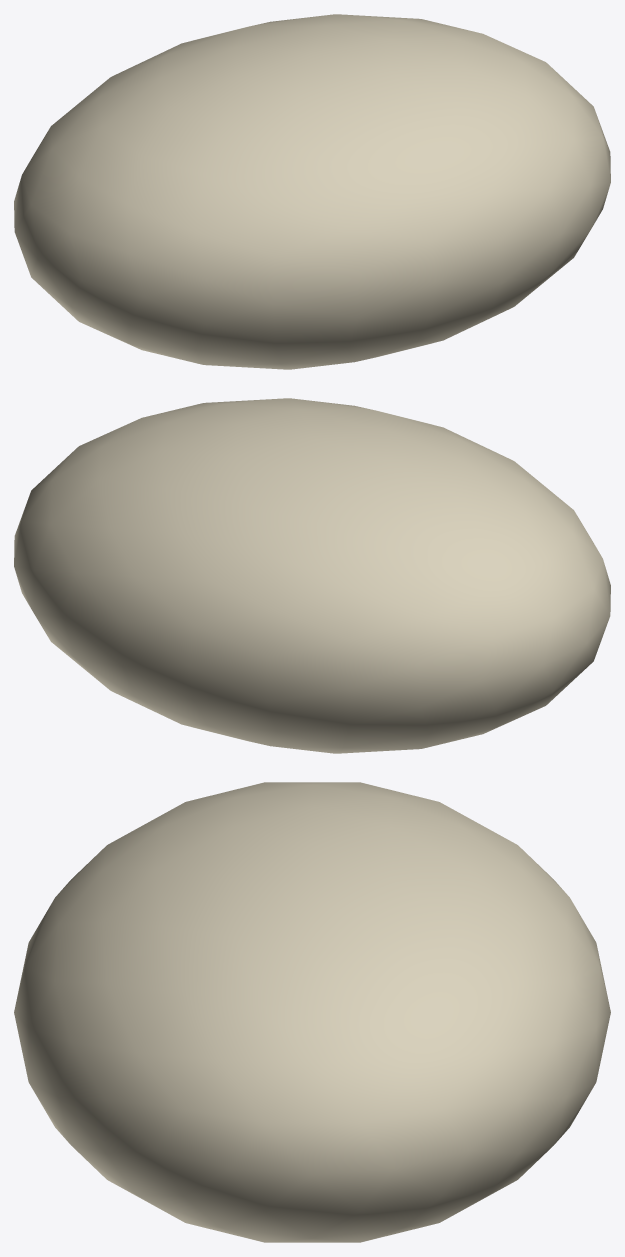
File: hill_marker_ultra.glb
3 renders of one model, top to bottom at view 1: azimuth 30°, elevation 25°; view 2: azimuth 150°, elevation 25°; view 3: azimuth 270°, elevation 25°, orthographic. The views are drawn at different scales.
Parts seen in each view (by area): view 1: Stone_sand; view 2: Stone_sand; view 3: Stone_sand.
Boxes of the visible parts, x1=… form: Stone_sand: x1=14, y1=14, x2=610, y2=369; Stone_sand: x1=14, y1=398, x2=610, y2=753; Stone_sand: x1=14, y1=782, x2=610, y2=1242.
Size of the model in its own units: 1.78 by 0.858 by 1.39.
